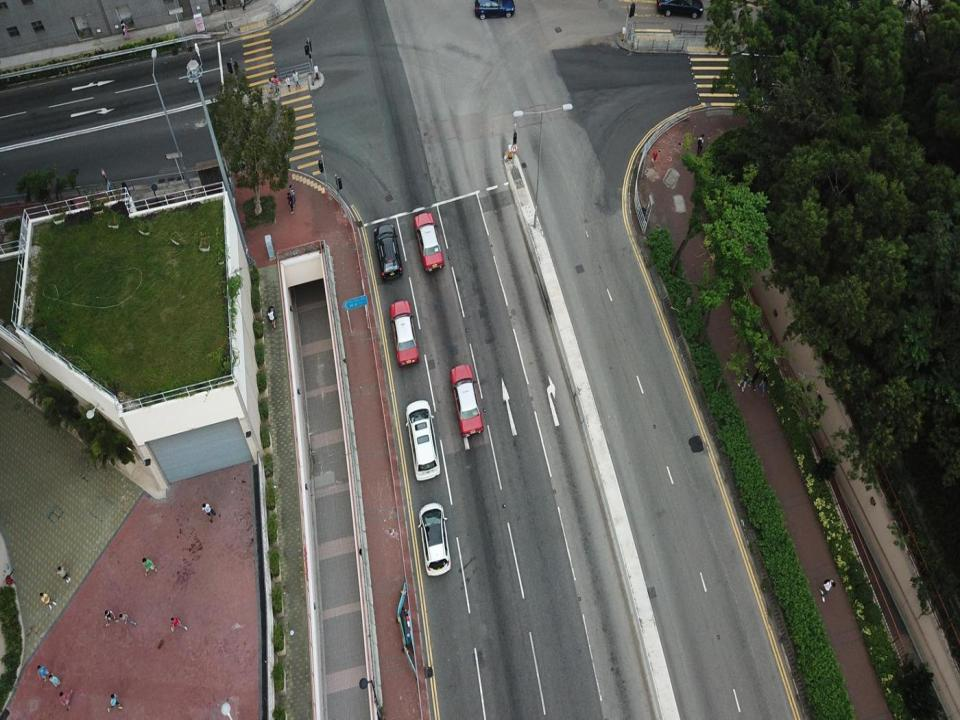car: (404, 398, 442, 482), (450, 362, 485, 437), (417, 502, 452, 576), (390, 298, 420, 364), (374, 224, 404, 282), (415, 213, 444, 272), (472, 0, 515, 20), (656, 0, 703, 18)
